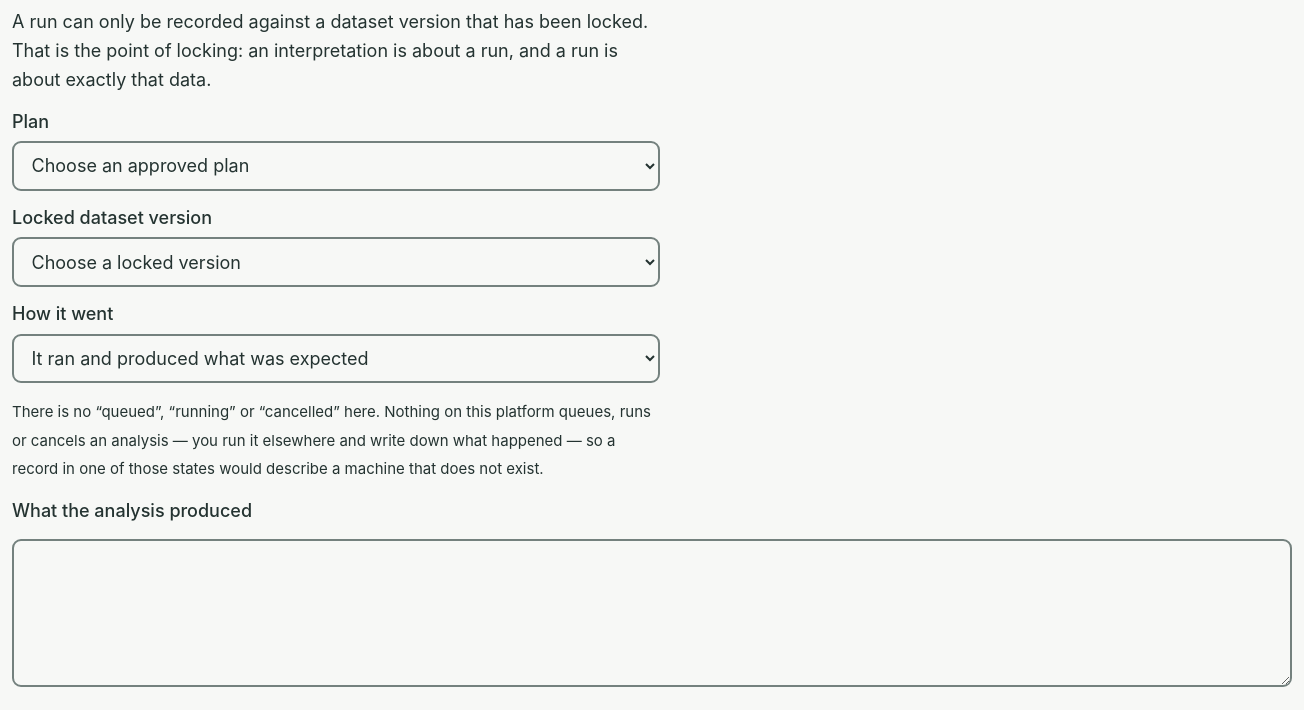
it: the analysis chain › a run can say it failed, and says what that leaves behind
The width and height of the screenshot is (1304, 710).
(page scrolled)
Expected: the text "would describe a machine that does not exist" is shown, [12,402,651,478]
Select "It failed" in the dropdown labelled "How it went" at [336, 359], box [12,334,660,383]
(page scrolled)
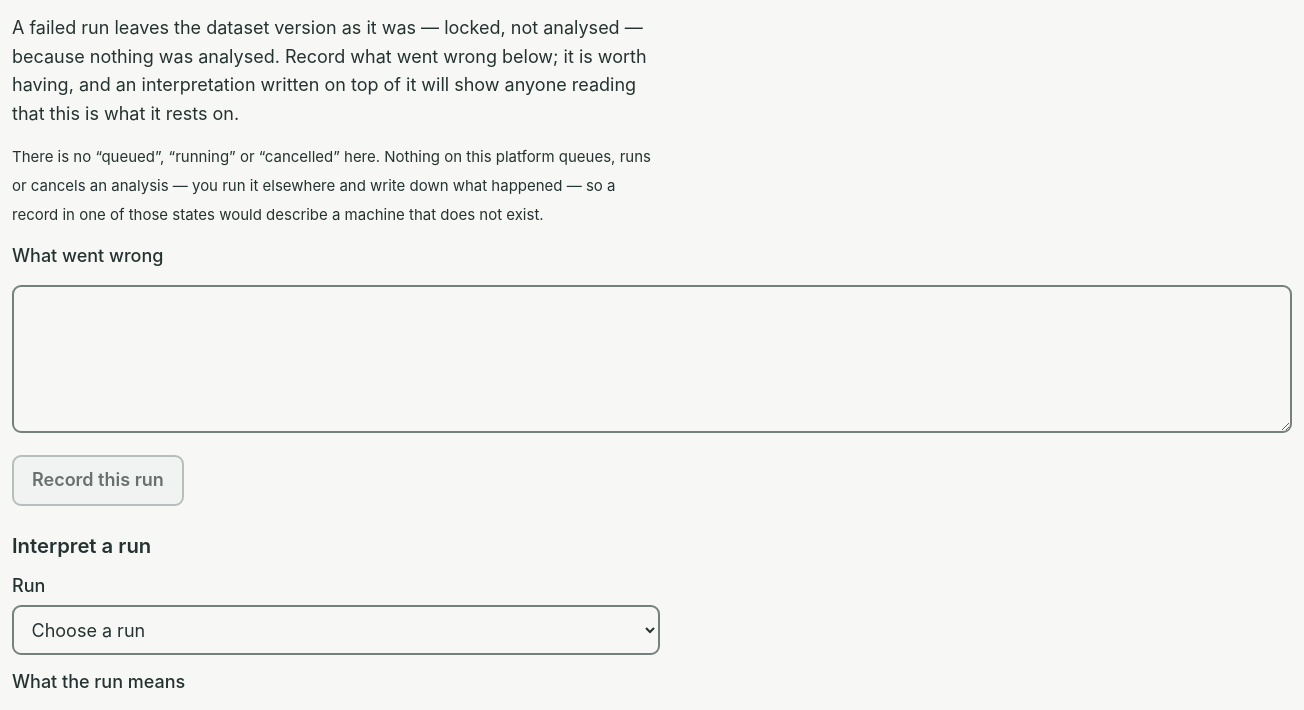
Expected: the text box labelled "What went wrong" is shown, [12,285,1292,433]
Expected: the text "leaves the dataset version as it was — locked, not analysed" is shown, [12,17,647,124]
